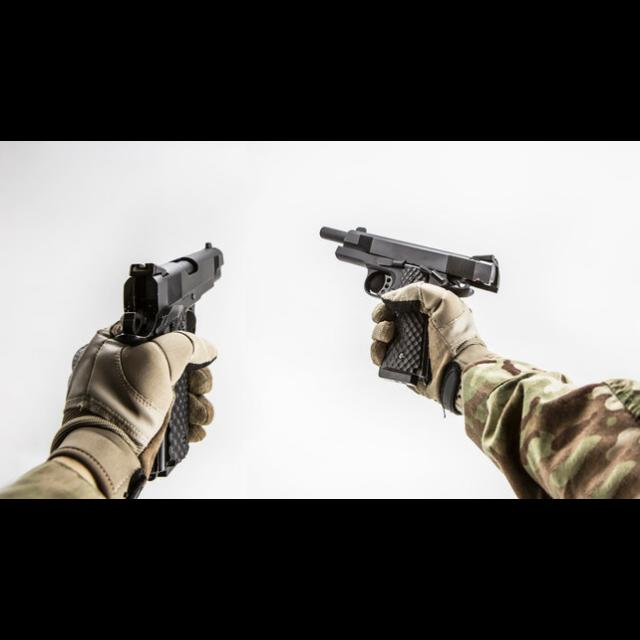handgun: (316, 222, 504, 306), (110, 239, 228, 349)
